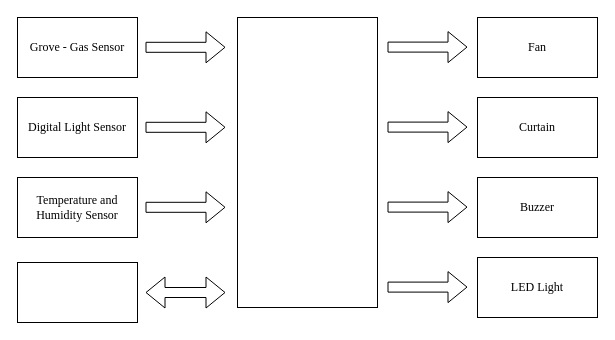
Image size: 615x340. Some labels were removed from this diagram. Here are the shapes that lost their labels. From the top down, the centre of each, then its label:
At (307,162): "STM32F103C8T6".
At (77,292): "ESP-01S Wi-Fi Module".
